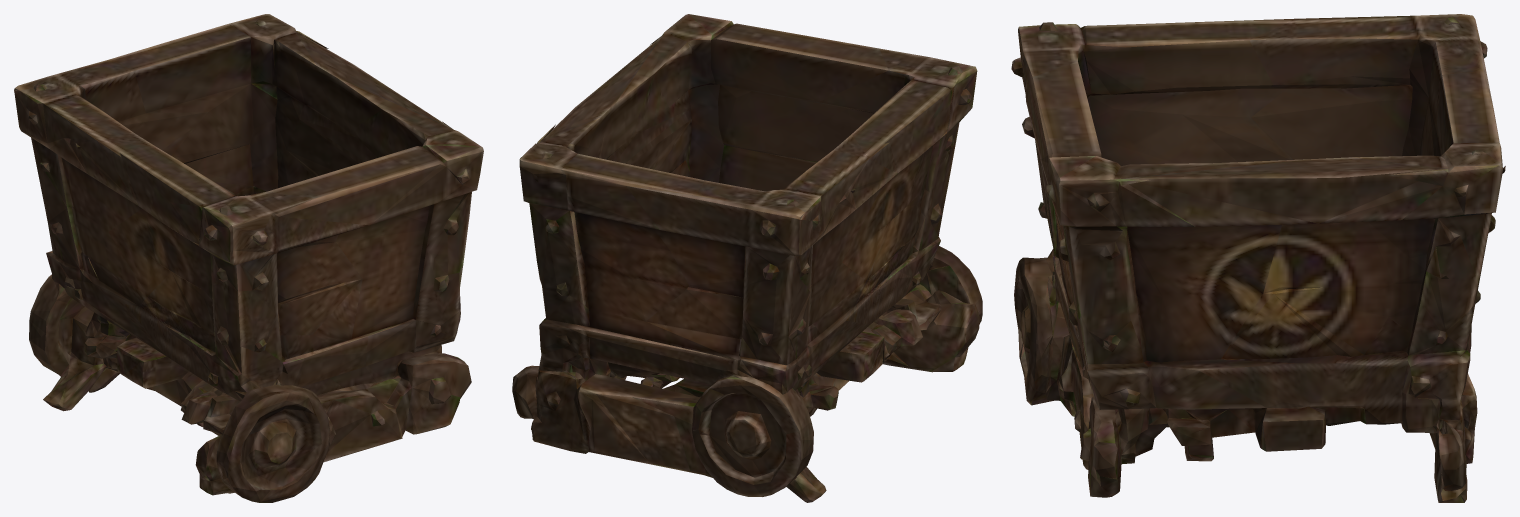
File: leaf_cart.glb
3 renders of one model, left to right at view 1: azimuth 30°, elevation 25°; view 2: azimuth 150°, elevation 25°; view 3: azimuth 270°, elevation 25°, orthographic. The views are drawn at different scales.
Visible parts, largest first — view 1: output_unwrapped; view 2: output_unwrapped; view 3: output_unwrapped.
Boxes of the visible parts, x1,y1,x2,y2 form: output_unwrapped: [14, 14, 483, 502]; output_unwrapped: [512, 14, 982, 502]; output_unwrapped: [1011, 14, 1505, 502].
Bounding box in the file's own units: 0.2396 × 0.2401 × 0.2974.
1 material, 1 textured.
